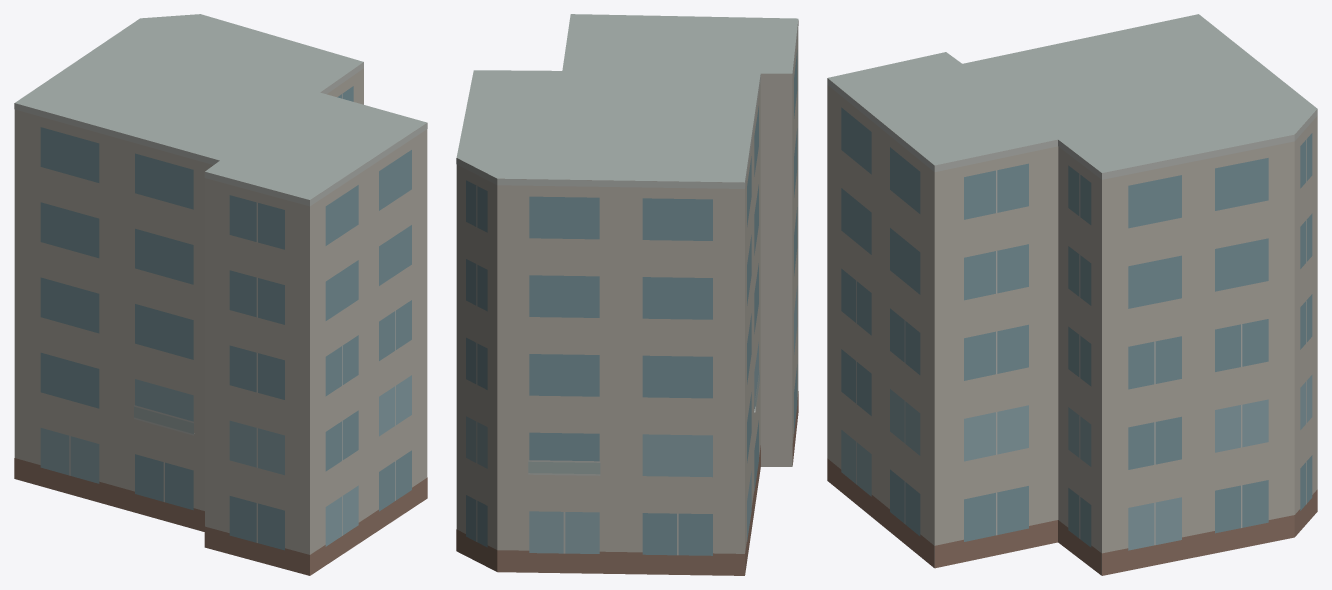
The model's file is survey-upis-32863898.glb.
3 views of the same model, side by side, from view 1: azimuth 30°, elevation 25°; view 2: azimuth 150°, elevation 25°; view 3: azimuth 270°, elevation 25° (orthographic). The views are drawn at different scales.
Visible parts, largest first — view 1: survey-upis-32863898.tmp; view 2: survey-upis-32863898.tmp; view 3: survey-upis-32863898.tmp.
Boxes of the visible parts, box(x1,y1,x2,y2) form: survey-upis-32863898.tmp: box(14, 14, 427, 575); survey-upis-32863898.tmp: box(456, 14, 798, 575); survey-upis-32863898.tmp: box(827, 14, 1317, 575).
Bounding box in the file's own units: 12.33 × 14.55 × 16.06.
